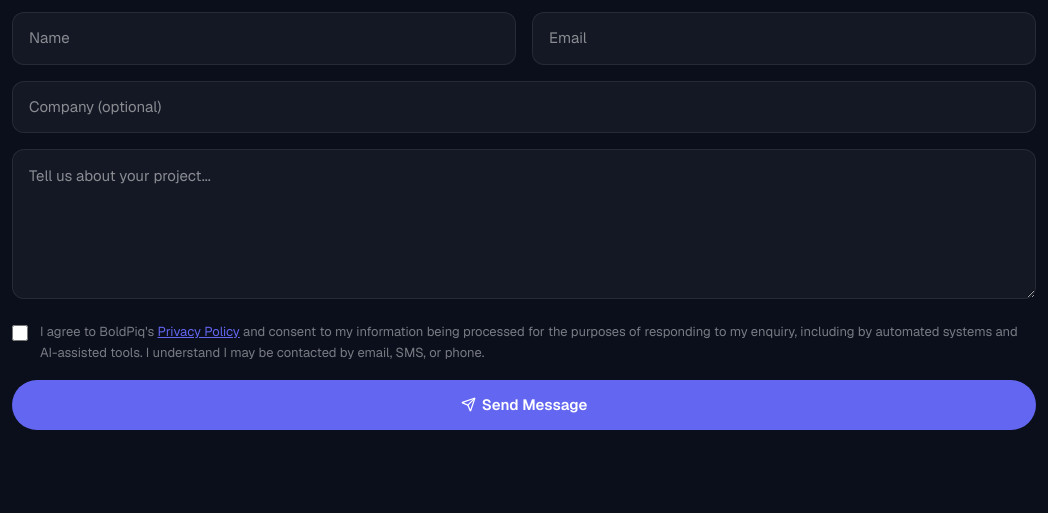
Test: ContactForm › validation — email › shows error for invalid email format
Type "not-an-email" into the field named "Your email address" at (784, 38), box x1=532 y1=12 x2=1036 y2=64
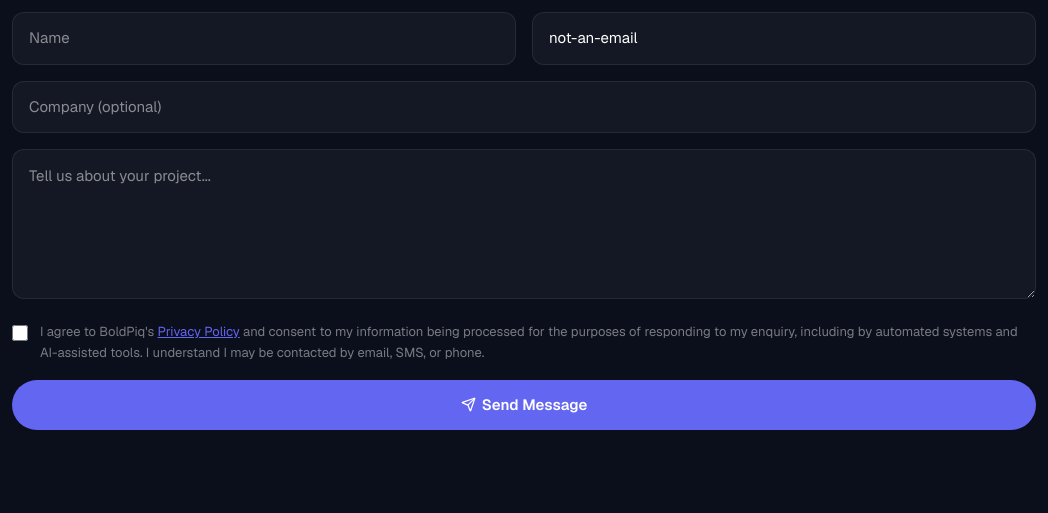
Submit the form named "send message"
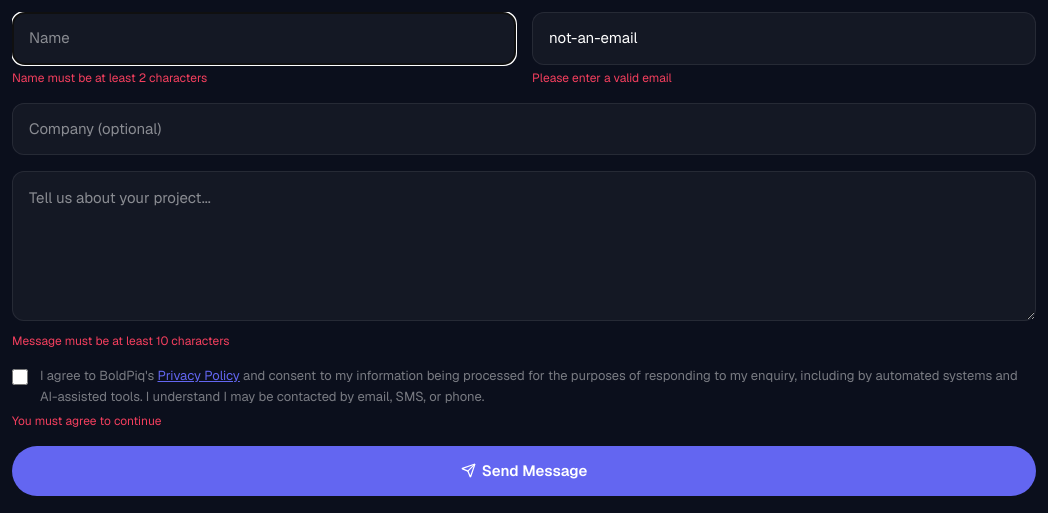
Result: the text "Please enter a valid email" is shown at x1=532 y1=70 x2=672 y2=86
